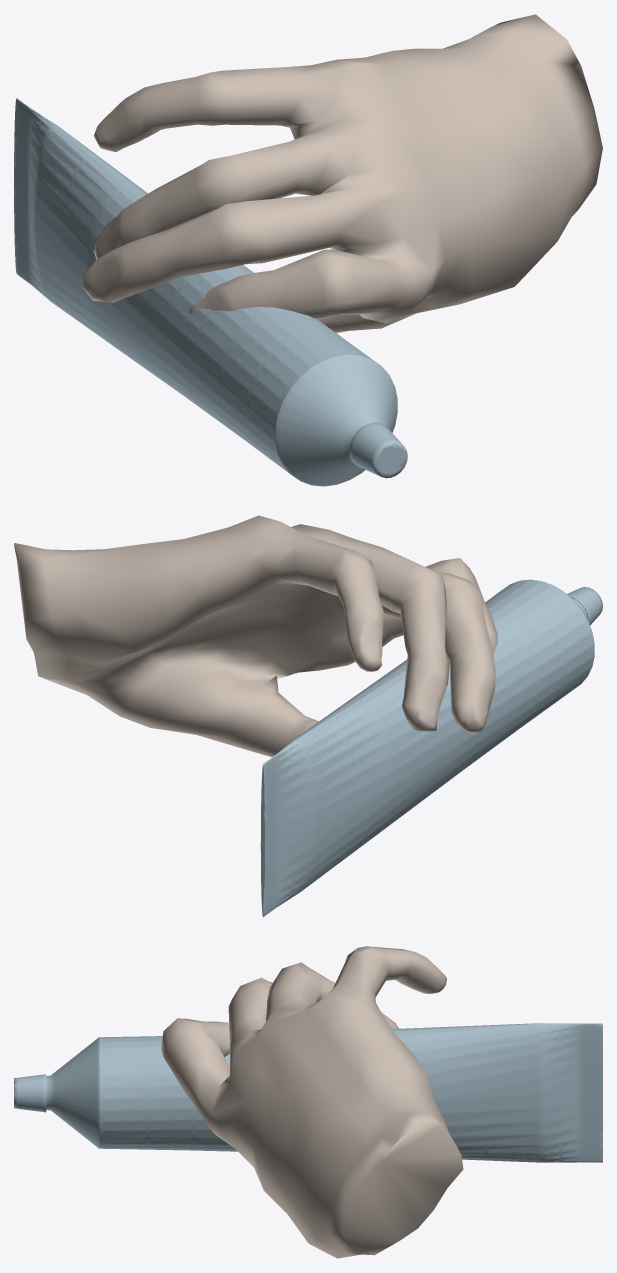
Rendered from ours_3.glb.
3 views of the same model, one above another, from view 1: azimuth 30°, elevation 25°; view 2: azimuth 150°, elevation 25°; view 3: azimuth 270°, elevation 25° (orthographic). The views are drawn at different scales.
Size of the model in its own units: 0.1611 by 0.089 by 0.202.
